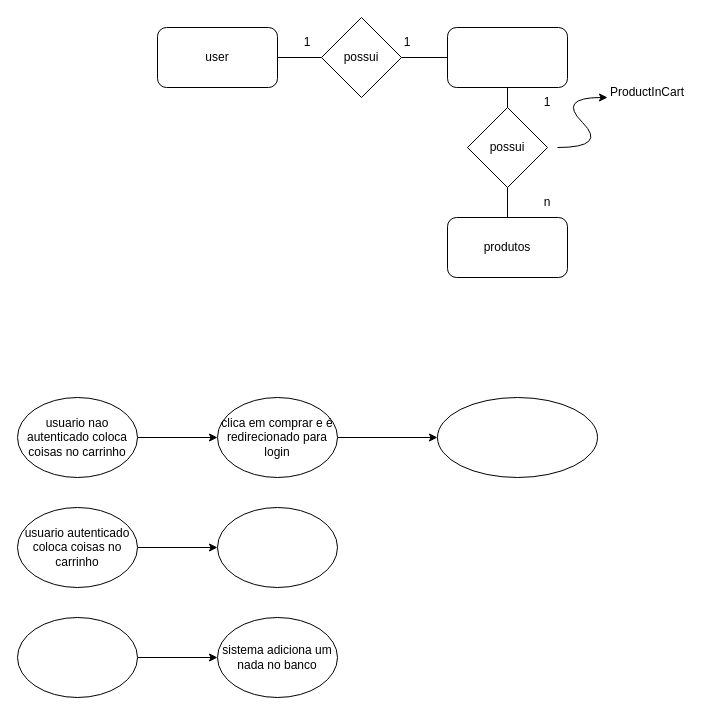
Some shapes in this 702 by 715 pixel diagram are drawn without their labels. Each missing label, with the centre of its shape:
"carrinho" belongs at (x=507, y=57).
"nem chega a mexer com sessão, apenas salva no banco de dados" belongs at (x=277, y=547).
"sistema coloca dados nao autenticados no banco (adiciona ao que ja existe)" belongs at (x=517, y=437).
"usuario nao autenticado faz login sem botar nada no carrinho" belongs at (x=77, y=657).
